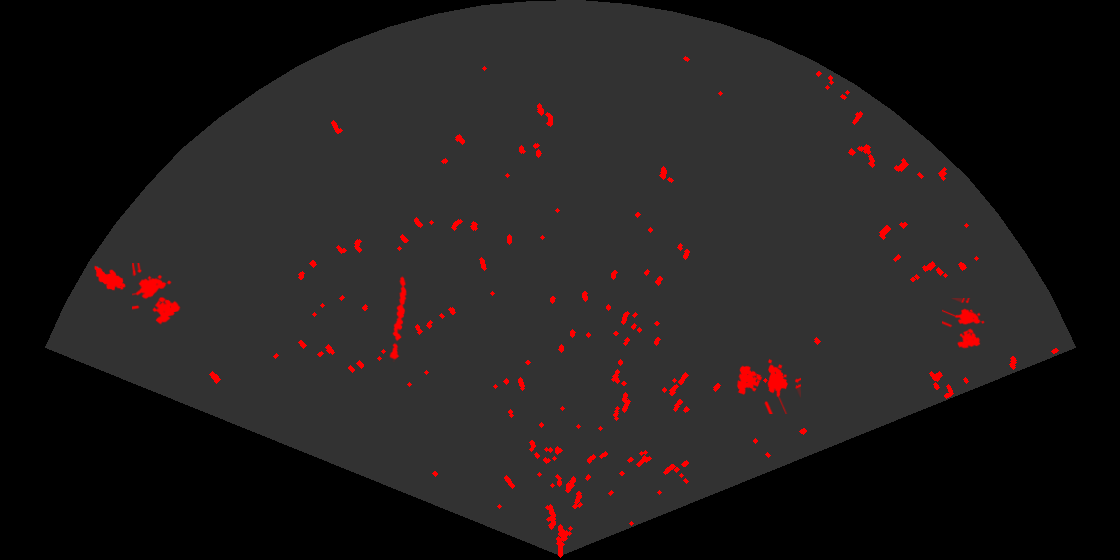AUV: (92, 264, 127, 292)
cage: (735, 357, 801, 414), (132, 263, 182, 326), (942, 298, 986, 350)
chain: (388, 274, 409, 362)
